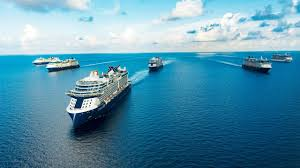ship: (67, 64, 133, 144), (237, 55, 274, 74), (269, 51, 293, 66), (44, 59, 81, 67), (30, 54, 62, 63), (146, 55, 163, 69)
